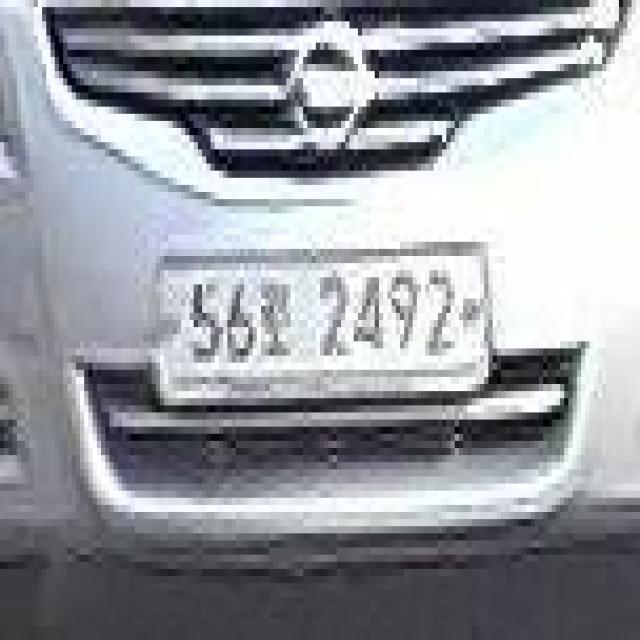illegal_plate: (150, 241, 495, 405)
